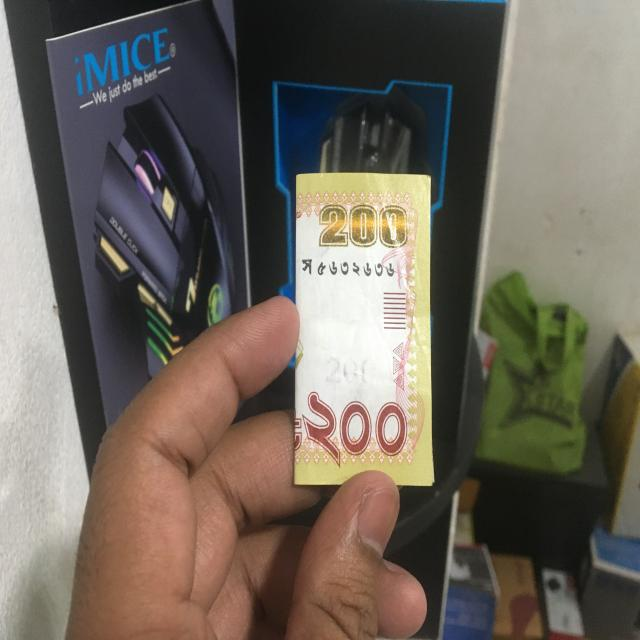Taka: (294, 173, 431, 484)
